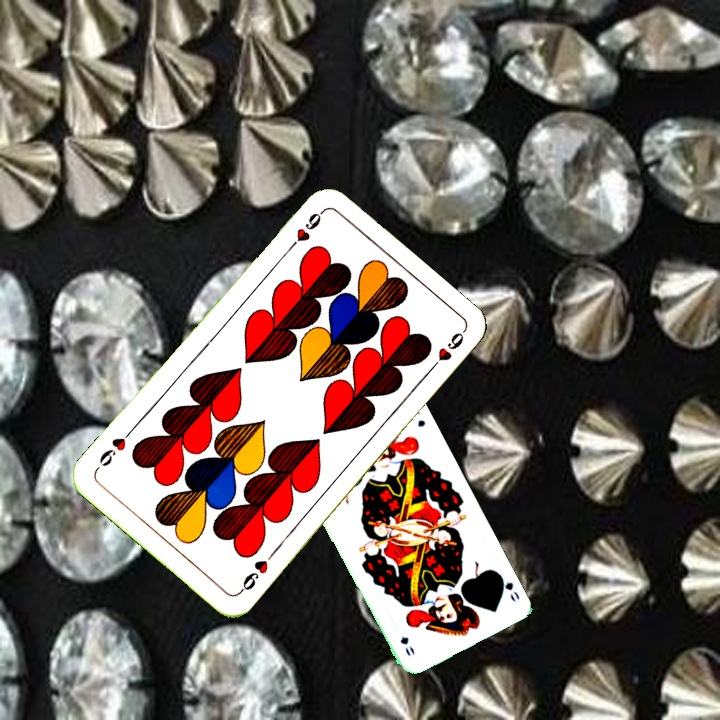GO: (493, 568, 522, 605)
H9: (282, 207, 326, 255), (235, 547, 277, 597)
